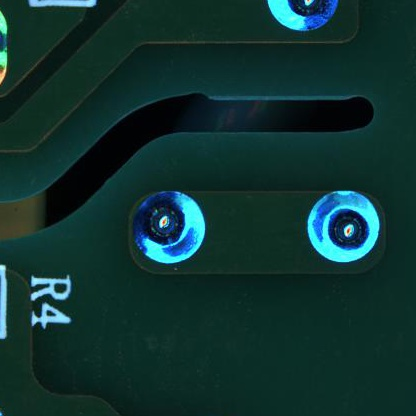spot: (302, 187, 385, 269), (130, 188, 208, 265)
